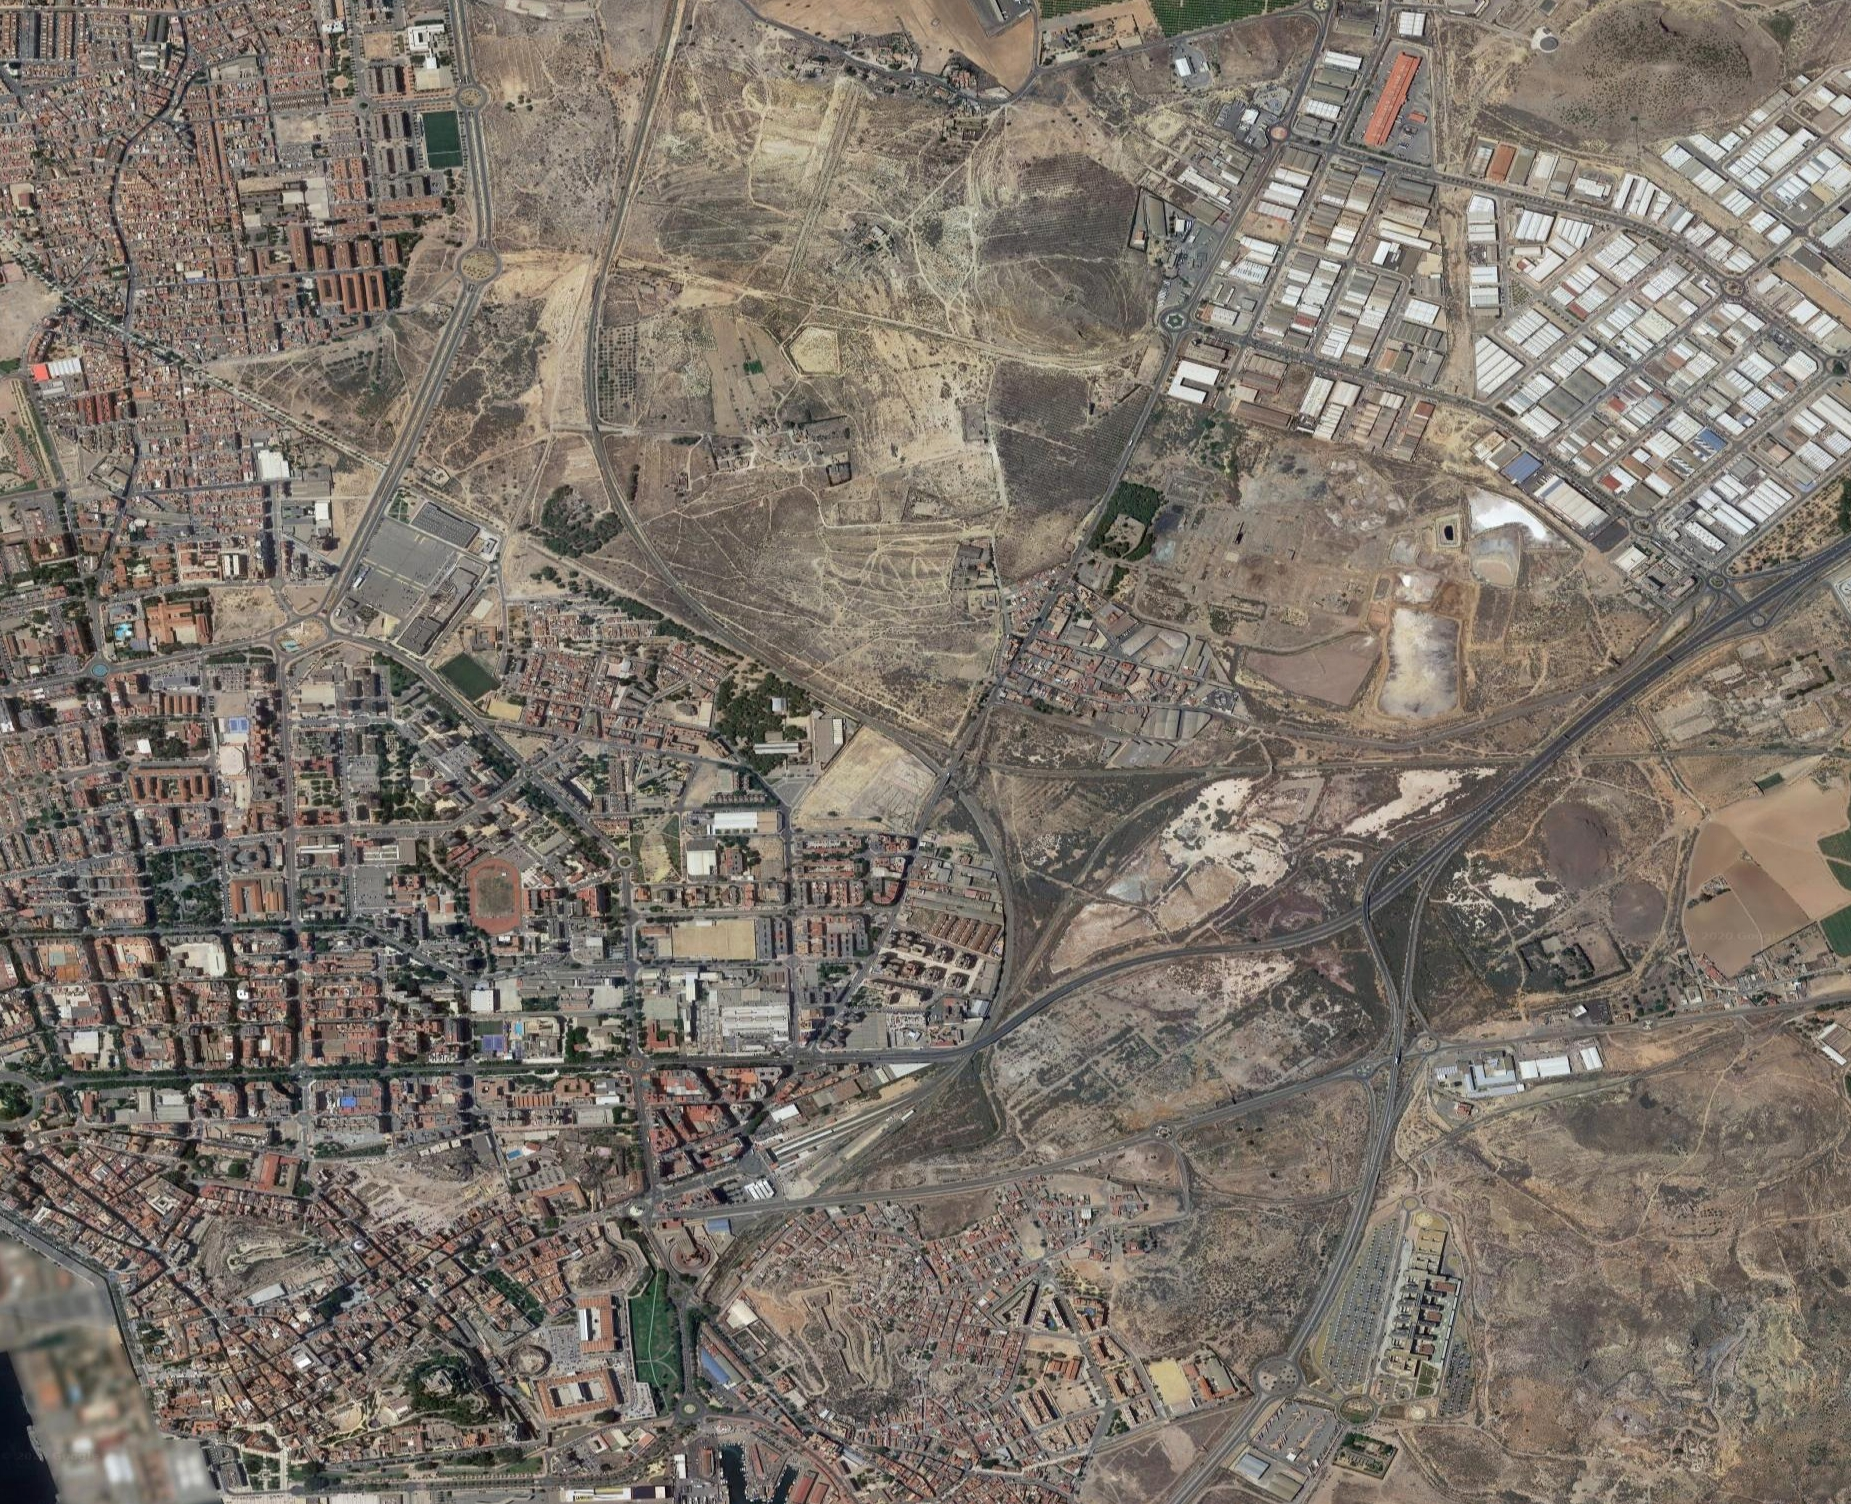industrial: (1214, 18, 1851, 549)
motorway: (1237, 731, 1578, 994), (1510, 537, 1851, 800), (289, 259, 499, 625), (1288, 998, 1446, 1323), (933, 724, 1059, 1060), (1131, 1320, 1308, 1504)
